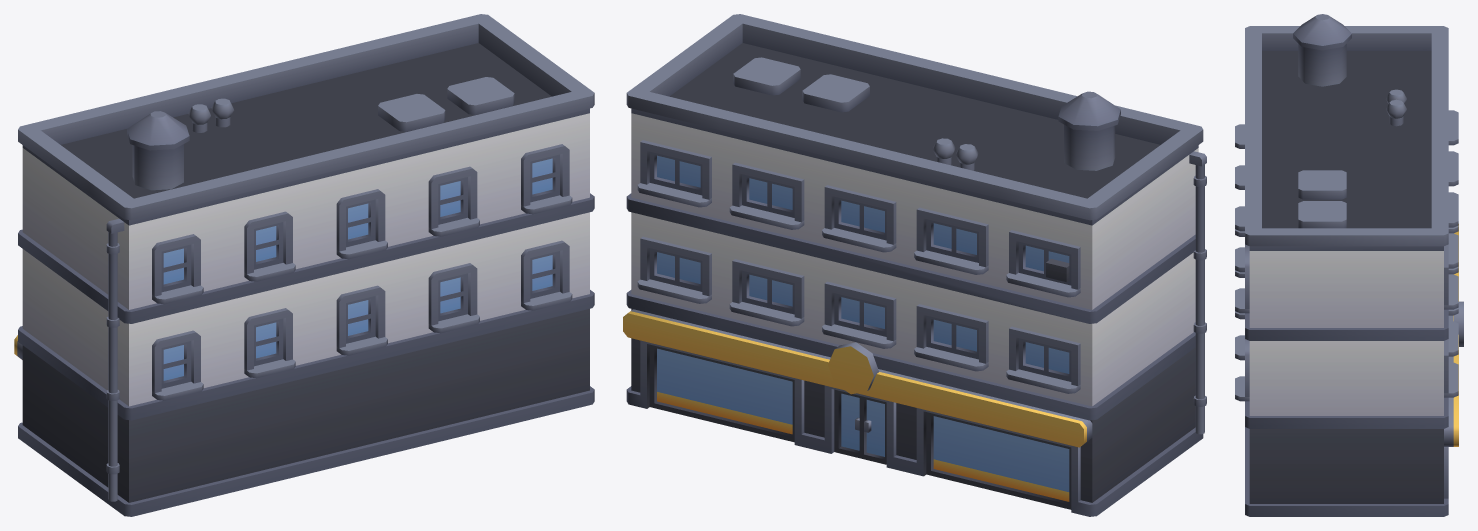
File: building-k.glb
The picture shows the model from 3 angles, left to right: view 1: azimuth 30°, elevation 25°; view 2: azimuth 150°, elevation 25°; view 3: azimuth 270°, elevation 25°; orthographic projection. The views are drawn at different scales.
Visible parts, largest first — view 1: building-k; view 2: building-k; view 3: building-k.
Part boxes in pixels (x1,y1,x2,y2): building-k: (14,14,594,516); building-k: (623,14,1206,516); building-k: (1235,14,1463,516).
Bounding box in the file's own units: 2.08 × 1.47 × 0.942.
Materials: 1 (1 with a texture image).
